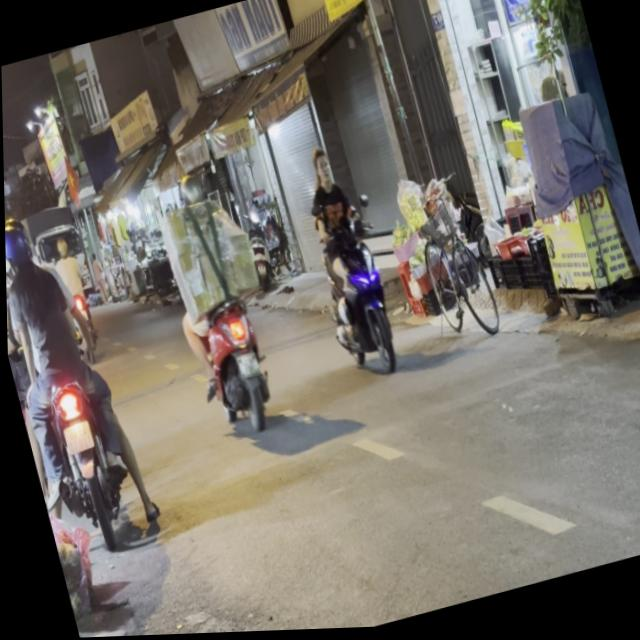helmet: (4, 217, 36, 276), (175, 172, 207, 213)
licenseplate: (3, 195, 160, 560), (143, 159, 290, 447), (287, 137, 407, 387)
motorcyclist: (308, 145, 335, 187)
nohelmet: (60, 419, 93, 452), (233, 352, 259, 379)
